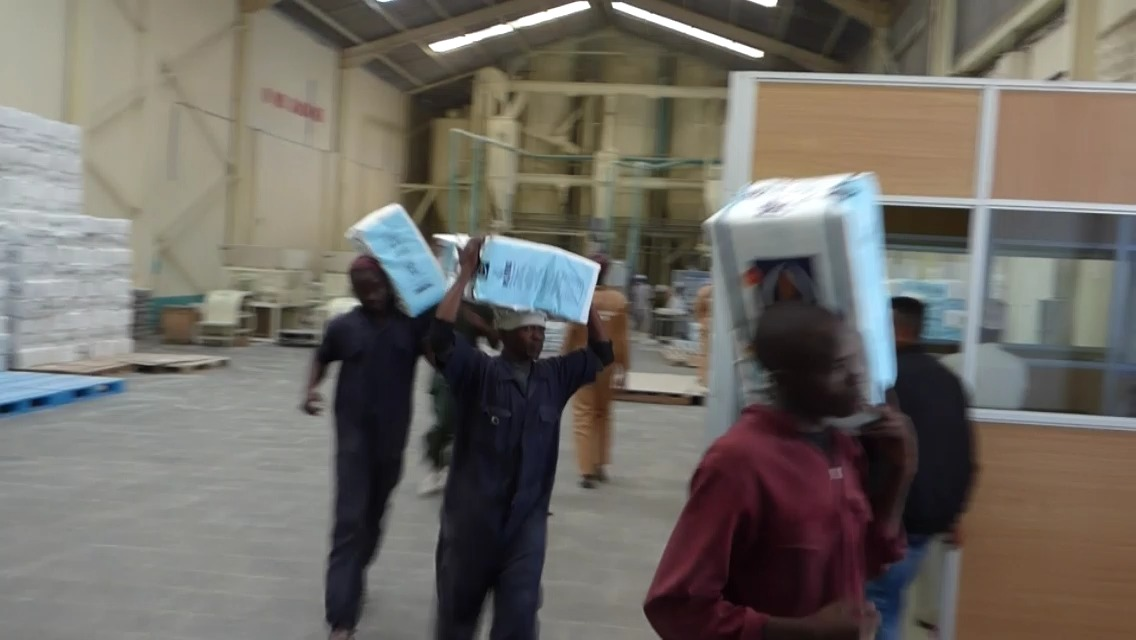wheat_flour_blue_label: (705, 174, 899, 422), (448, 230, 599, 325)
